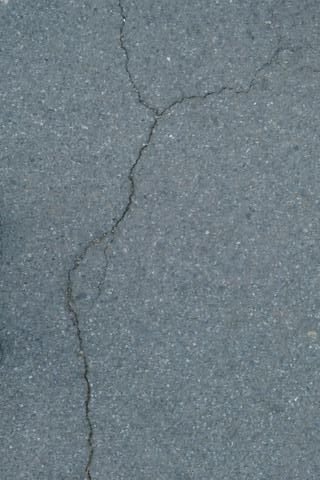A: (62, 2, 304, 480)
